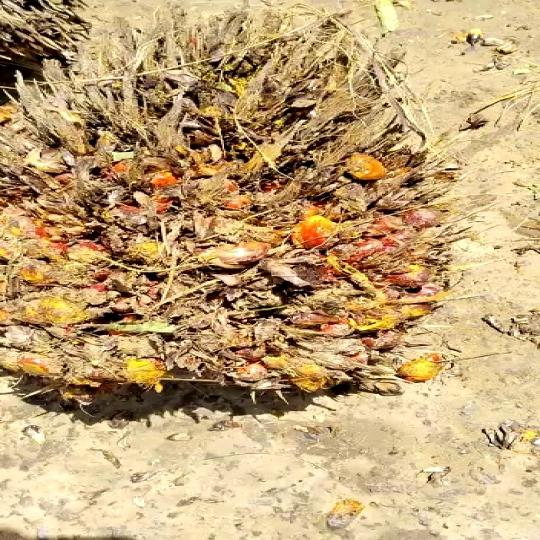terlalu masak: (0, 0, 456, 429)
